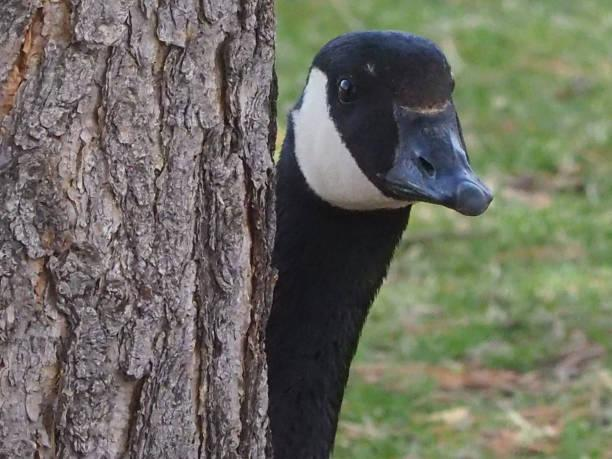Canadian-Goose: (271, 29, 491, 459)
